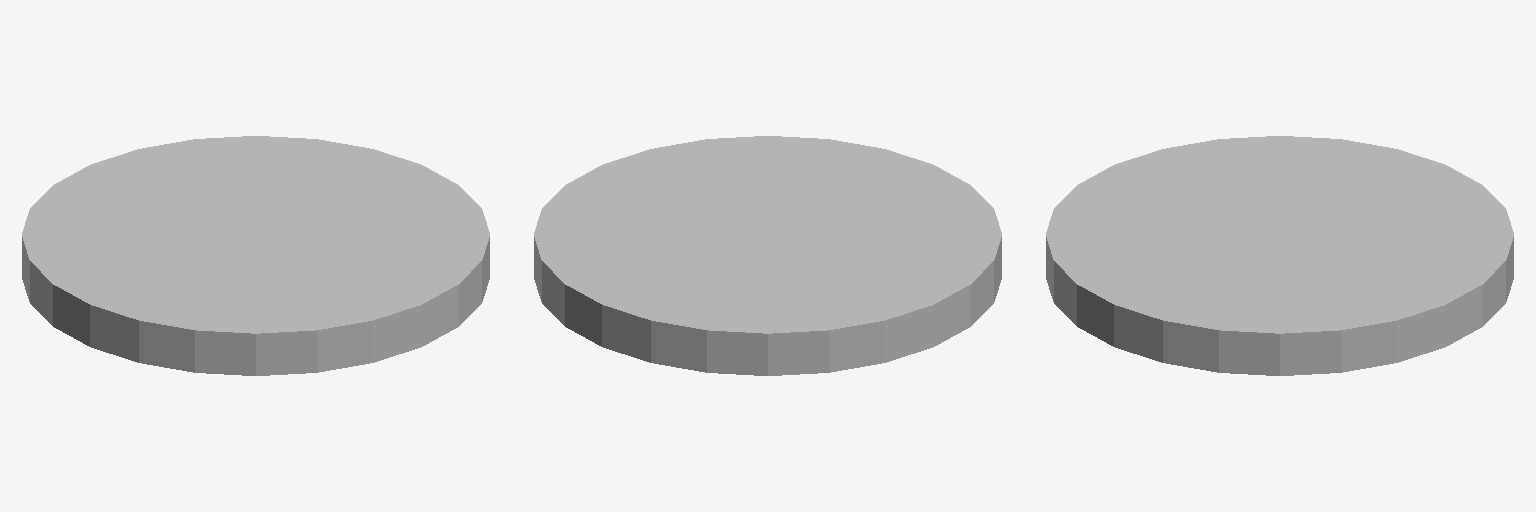
Rendered from showcase.obj.
The picture shows the model from 3 angles: view 1: azimuth 30°, elevation 25°; view 2: azimuth 150°, elevation 25°; view 3: azimuth 270°, elevation 25°; orthographic projection.
Parts seen in each view (by area): view 1: Circle; view 2: Circle; view 3: Circle.
Part boxes in pixels (x1,y1,x2,y2): Circle: (22,136,489,375); Circle: (534,136,1001,375); Circle: (1046,136,1513,375).
Bounding box in the file's own units: 5 × 0.5 × 5.